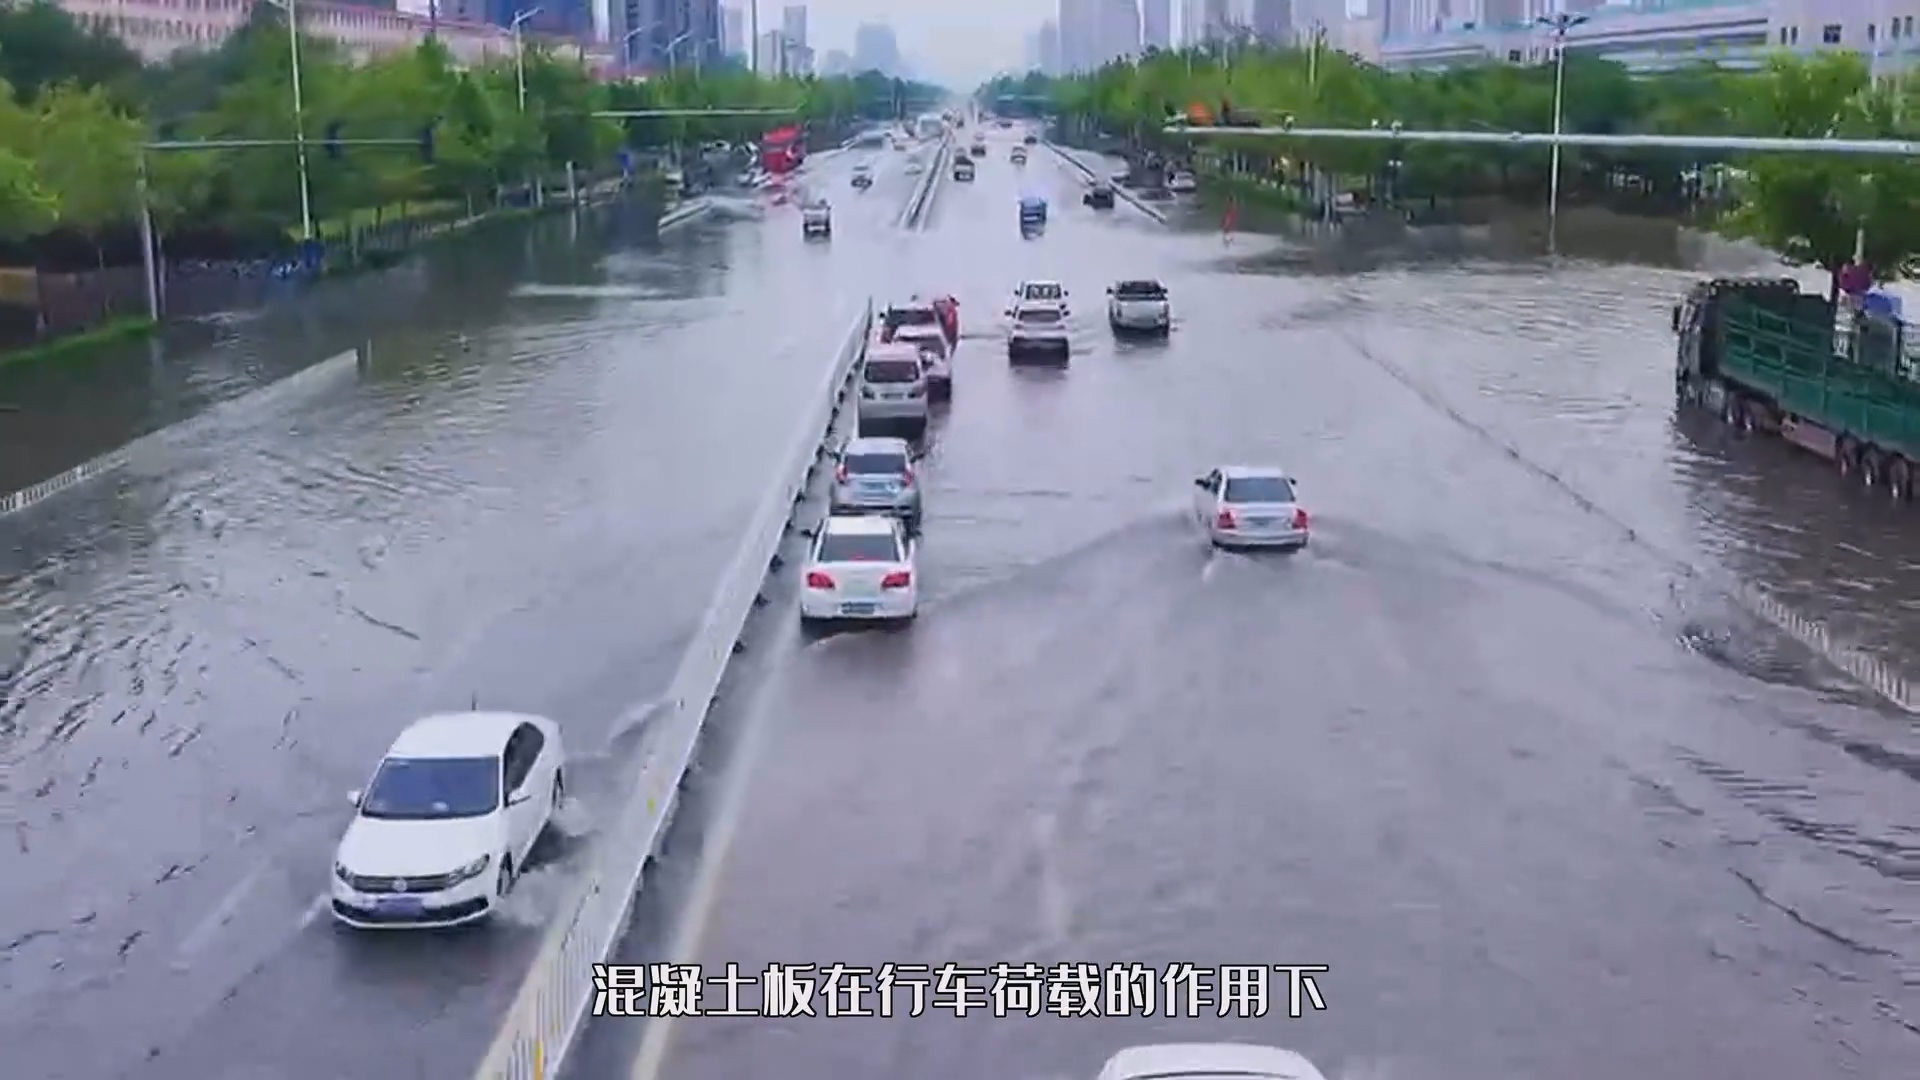puddle: (1, 356, 1920, 1080)
